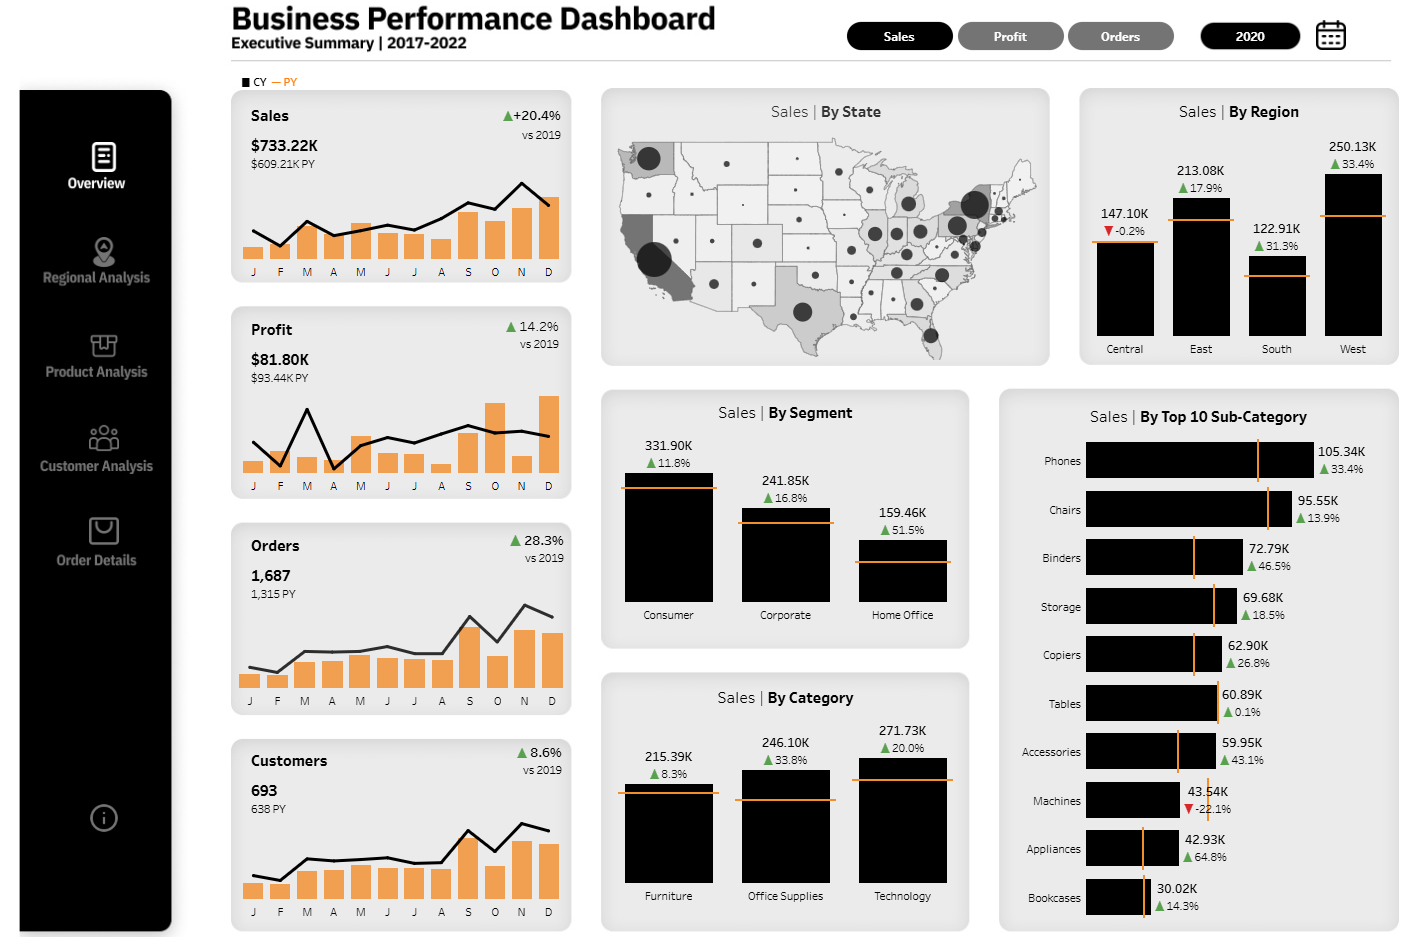

What the dashboard file says about the page in this screenshot:
{"tool":"tableau","page":{"name":"Overview","canvas":[1440,1024],"ordinal":2},"visuals":[{"type":"image","param":"Image/Dashboard BG.png","box":[0,0,1440,1024]},{"type":"worksheet","title":"Metric Button","mark":"Shape","cols":["Calculation_340584768144658440","Calculation_340584768144658440","Calculation_340584768144658440"],"box":[827,44,340,62]},{"type":"worksheet","title":"Year Button","mark":"Shape","cols":["Calculation_340584768144658440"],"box":[1167,44,140,62]},{"type":"dashboard-object","box":[1302,59,30,30]},{"type":"parameter","param":"[Parameters].[Parameter 1]","box":[1304,88,118,44]},{"type":"text","box":[226,107,100,26]},{"type":"worksheet","title":"By State","mark":"Multipolygon","box":[592,133,434,274]},{"type":"worksheet","title":"Region","mark":"Automatic","rows":["Calculation_1896859912208703498","CY Metric Swap  (copy)_1896859912209924107"],"cols":["Region"],"box":[1060,133,312,271]},{"type":"worksheet","title":"Sales Card","mark":"Automatic","box":[233,137,155,75]},{"type":"worksheet","title":"YoY Sales % ","mark":"Automatic","box":[442,144,116,57]},{"type":"image","param":"Image/form (2).png","box":[75,183,30,30]},{"type":"worksheet","title":"Sales Chart","mark":"Automatic","rows":["CY Sales (copy)_1896859912200220675","Calculation_1896859912199979010"],"cols":["Order Date"],"box":[222,213,330,110]},{"type":"dashboard-object","box":[75,276,30,30]},{"type":"worksheet","title":"Profit Card","mark":"Automatic","box":[233,350,155,75]},{"type":"worksheet","title":"YoY Profit %","mark":"Automatic","box":[442,355,116,57]},{"type":"dashboard-object","box":[75,369,30,30]},{"type":"worksheet","title":"Profit Chart","mark":"Bar","rows":["PY Sales  (copy)_1896859912201674757","CY Sales (copy)_1896859912201572356"],"cols":["Order Date"],"box":[222,427,330,110]},{"type":"worksheet","title":"Segment","mark":"Automatic","rows":["Calculation_1896859912208703498","CY Metric Swap  (copy)_1896859912209924107"],"cols":["Segment"],"box":[592,430,359,255]},{"type":"worksheet","title":"Sub-Category","mark":"Automatic","rows":["Sub-Category"],"cols":["Calculation_1896859912208703498","CY Metric Swap  (copy)_1896859912209924107"],"box":[982,431,393,530]},{"type":"dashboard-object","box":[75,462,30,30]},{"type":"dashboard-object","box":[75,555,30,30]},{"type":"worksheet","title":"Orders Card","mark":"Automatic","box":[233,563,155,75]},{"type":"worksheet","title":"YoY Orders %","mark":"Automatic","box":[442,568,116,57]},{"type":"worksheet","title":"Orders Chart","mark":"Bar","rows":["CY Orders (copy)_1896859912203137031","CY Profit (copy)_1896859912202817542"],"cols":["Order Date"],"box":[222,638,330,110]},{"type":"worksheet","title":"Category","mark":"Automatic","rows":["Calculation_1896859912208703498","CY Metric Swap  (copy)_1896859912209924107"],"cols":["Category"],"box":[592,709,359,251]},{"type":"text","box":[115,772,394,134]},{"type":"worksheet","title":"Customers Card","mark":"Automatic","box":[233,775,155,75]},{"type":"worksheet","title":"YoY Customers %","mark":"Automatic","box":[442,781,116,57]},{"type":"dashboard-object","box":[75,842,30,30]},{"type":"worksheet","title":"Customers Chart","mark":"Bar","rows":["CY Customers (copy)_1896859912206483465","CY Profit (copy)_1896859912206348296"],"cols":["Order Date"],"box":[222,853,330,110]}]}

Visuals, with their boxes on the page's 1440x1024 design canvas (x1, y1, x2, y2). These are canvas units, not pixel positions in the 1416x937 screenshot, which may show the page scaled, cropped or inside an application window:
image: <bbox>0, 0, 1440, 1024</bbox>
"Metric Button" worksheet (Shape marks): <bbox>827, 44, 1167, 106</bbox>
"Year Button" worksheet (Shape marks): <bbox>1167, 44, 1307, 106</bbox>
dashboard-object: <bbox>1302, 59, 1332, 89</bbox>
parameter: <bbox>1304, 88, 1422, 132</bbox>
text: <bbox>226, 107, 326, 133</bbox>
"By State" worksheet (Multipolygon marks): <bbox>592, 133, 1026, 407</bbox>
"Region" worksheet: <bbox>1060, 133, 1372, 404</bbox>
"Sales Card" worksheet: <bbox>233, 137, 388, 212</bbox>
"YoY Sales % " worksheet: <bbox>442, 144, 558, 201</bbox>
image: <bbox>75, 183, 105, 213</bbox>
"Sales Chart" worksheet: <bbox>222, 213, 552, 323</bbox>
dashboard-object: <bbox>75, 276, 105, 306</bbox>
"Profit Card" worksheet: <bbox>233, 350, 388, 425</bbox>
"YoY Profit %" worksheet: <bbox>442, 355, 558, 412</bbox>
dashboard-object: <bbox>75, 369, 105, 399</bbox>
"Profit Chart" worksheet (Bar marks): <bbox>222, 427, 552, 537</bbox>
"Segment" worksheet: <bbox>592, 430, 951, 685</bbox>
"Sub-Category" worksheet: <bbox>982, 431, 1375, 961</bbox>
dashboard-object: <bbox>75, 462, 105, 492</bbox>
dashboard-object: <bbox>75, 555, 105, 585</bbox>
"Orders Card" worksheet: <bbox>233, 563, 388, 638</bbox>
"YoY Orders %" worksheet: <bbox>442, 568, 558, 625</bbox>
"Orders Chart" worksheet (Bar marks): <bbox>222, 638, 552, 748</bbox>
"Category" worksheet: <bbox>592, 709, 951, 960</bbox>
text: <bbox>115, 772, 509, 906</bbox>
"Customers Card" worksheet: <bbox>233, 775, 388, 850</bbox>
"YoY Customers %" worksheet: <bbox>442, 781, 558, 838</bbox>
dashboard-object: <bbox>75, 842, 105, 872</bbox>
"Customers Chart" worksheet (Bar marks): <bbox>222, 853, 552, 963</bbox>
